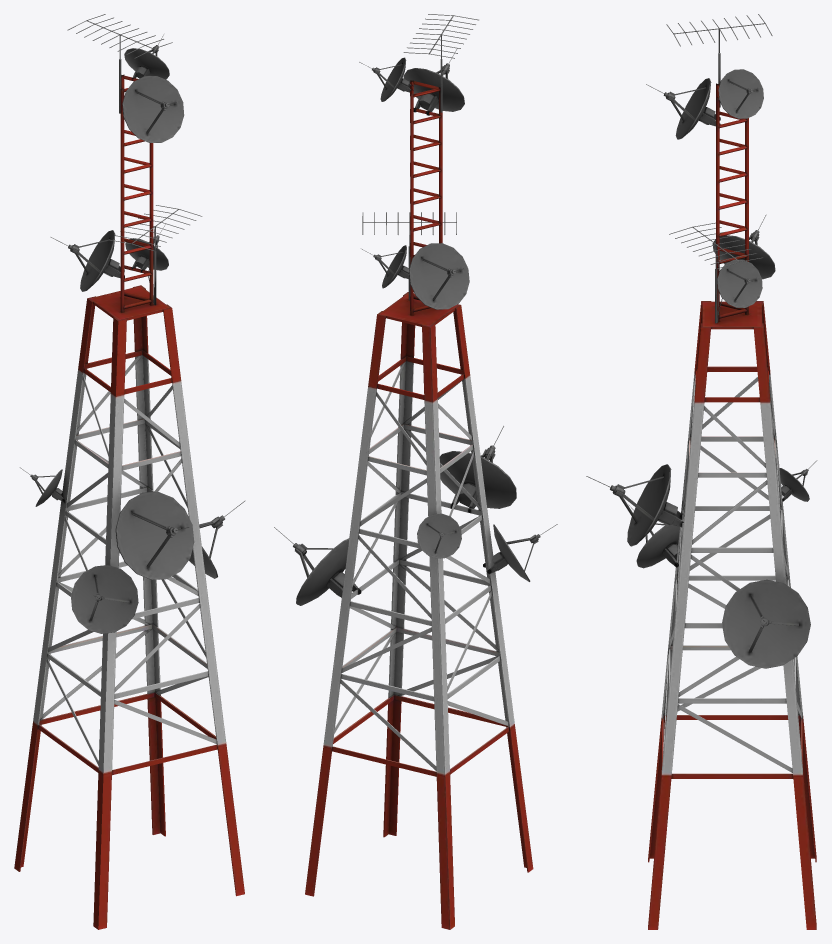
3 renders of one model, left to right at view 1: azimuth 30°, elevation 25°; view 2: azimuth 150°, elevation 25°; view 3: azimuth 270°, elevation 25°, orthographic.
Visible parts, largest first — view 1: body0_model0_lod0_mesh0; view 2: body0_model0_lod0_mesh0; view 3: body0_model0_lod0_mesh0.
Part boxes in pixels (box(x1,y1,x2,y2)): body0_model0_lod0_mesh0: box(14, 14, 245, 929); body0_model0_lod0_mesh0: box(274, 14, 557, 929); body0_model0_lod0_mesh0: box(586, 14, 817, 929).
Size of the model in its own units: 21.63 by 80.44 by 19.67.
Materials: 1 (1 with a texture image).
